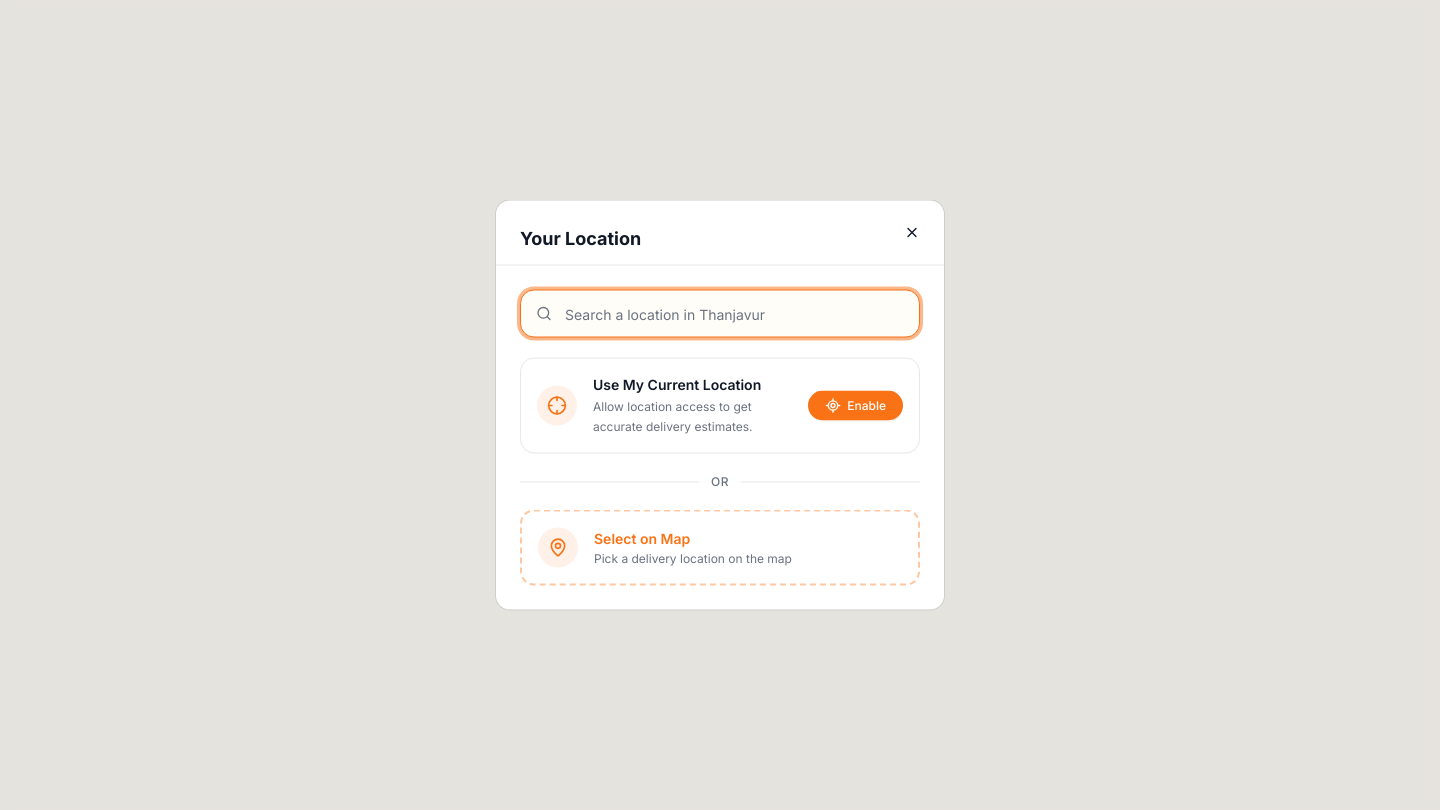
Test: LocationDialog › navigates to select-location step when Select on Map is clicked
Click the text "Select on Map": [642, 538] box [594,530,690,546]
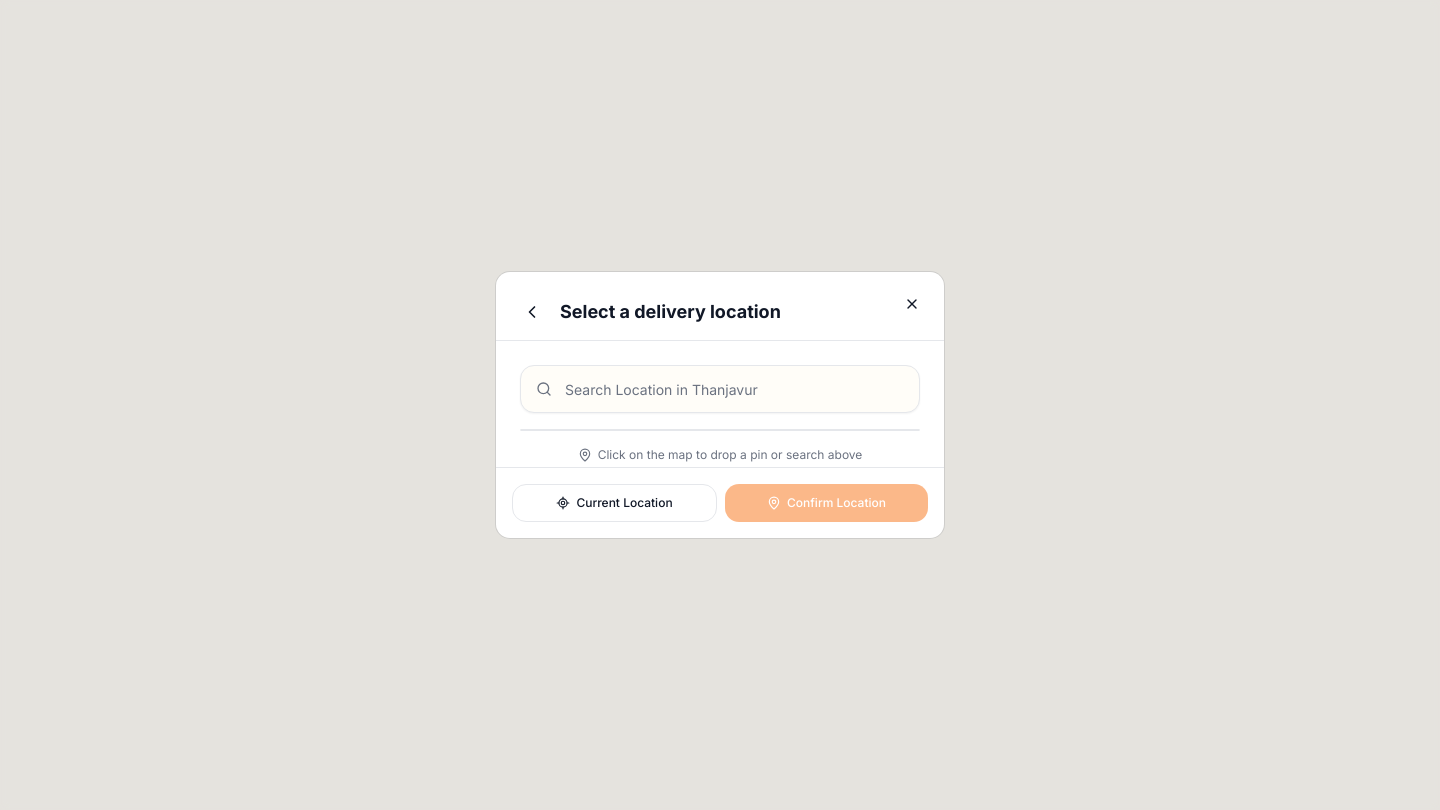
Expected: the heading "Select a delivery location" is shown, [560,298,781,326]
